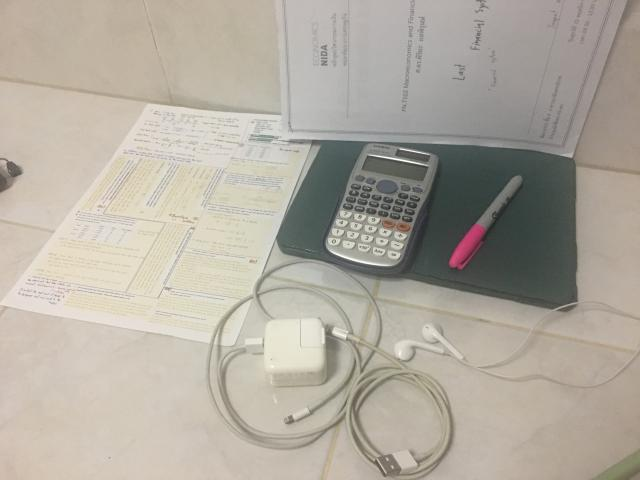Pen: (449, 175, 522, 269)
Wallet: (0, 158, 22, 192)
paper: (1, 104, 324, 347), (276, 0, 625, 156)
wire: (205, 259, 452, 478), (394, 301, 640, 389)
